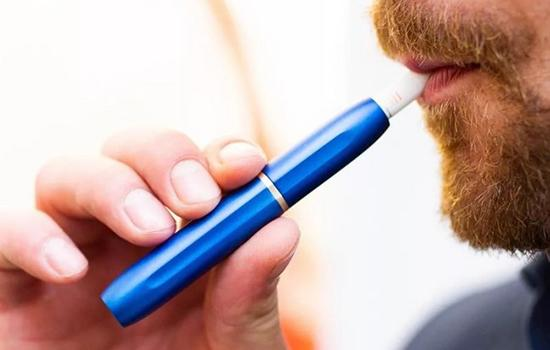iqos: (104, 71, 426, 326)
